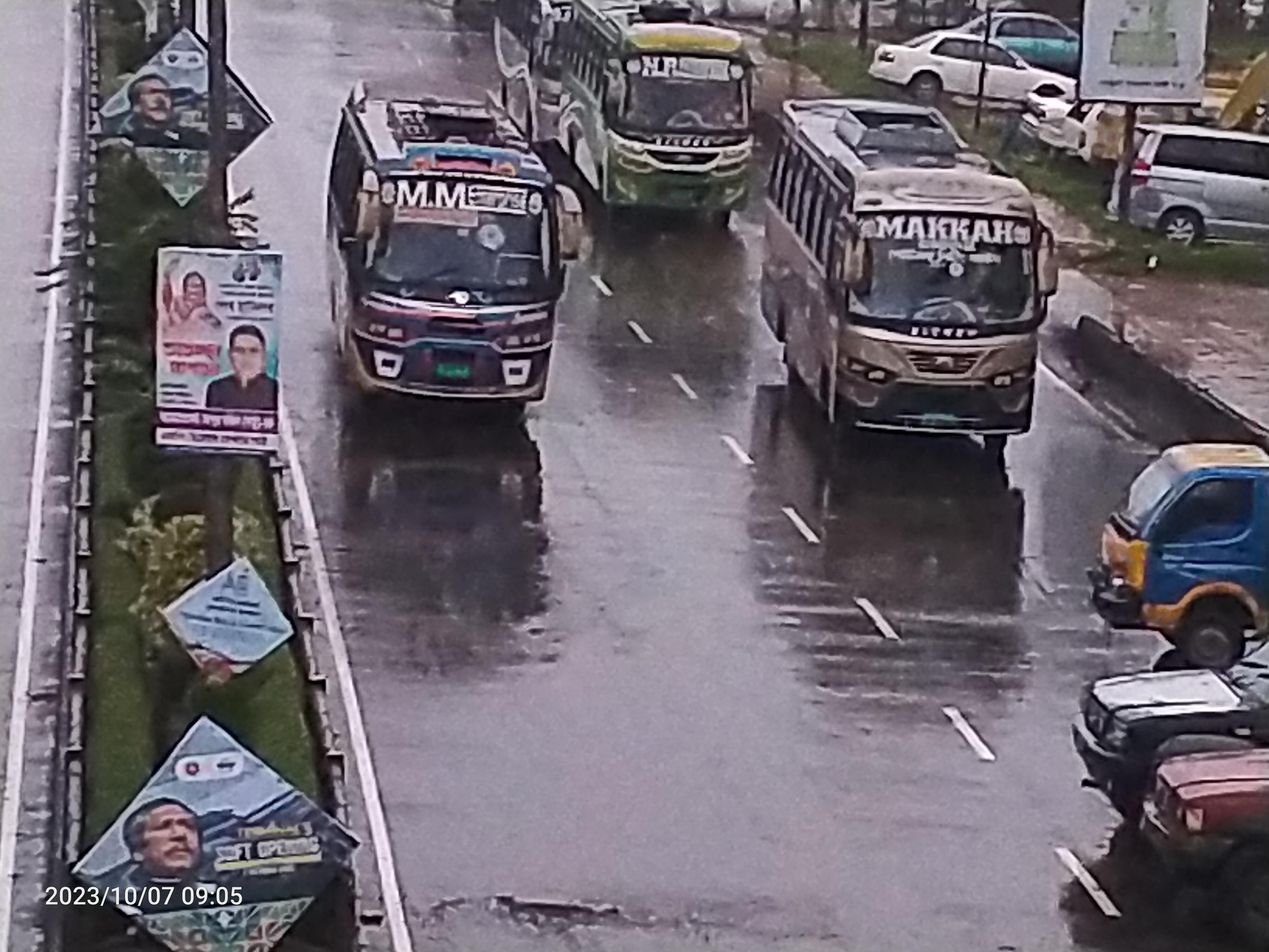Bus: (736, 74, 1075, 493), (260, 63, 595, 462), (503, 6, 772, 254)
Car: (1097, 93, 1269, 272), (858, 17, 1113, 131), (1015, 71, 1165, 192), (950, 0, 1110, 71)
Truck: (1063, 409, 1269, 662), (1104, 702, 1269, 928), (1047, 634, 1269, 783)
